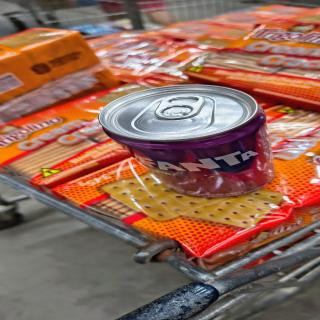beverage: (106, 85, 268, 202)
